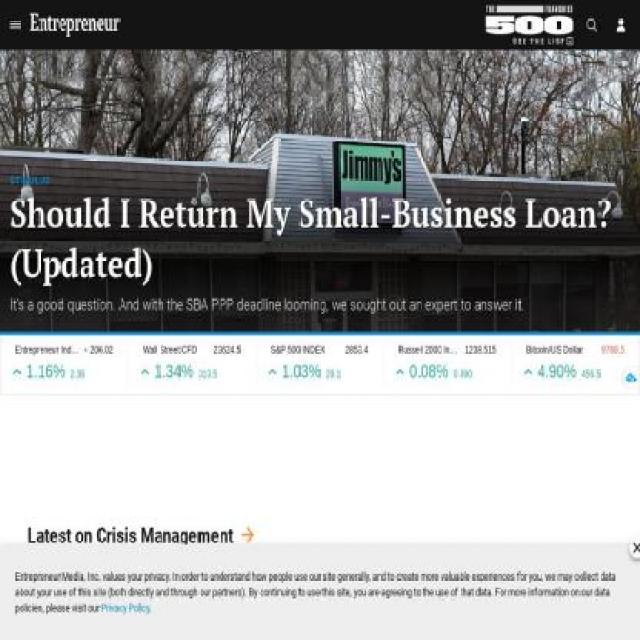button: (0, 50, 640, 336), (26, 560, 311, 638), (10, 172, 630, 188), (541, 560, 614, 638), (29, 0, 131, 51), (330, 560, 522, 577)
